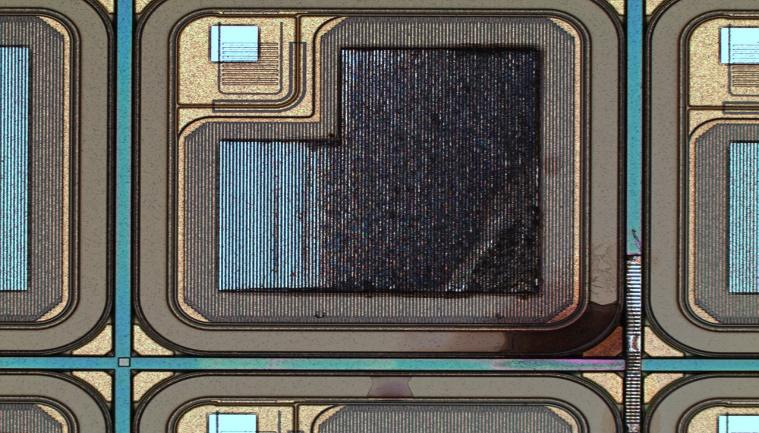SEZ BURNT: (218, 42, 630, 359)
